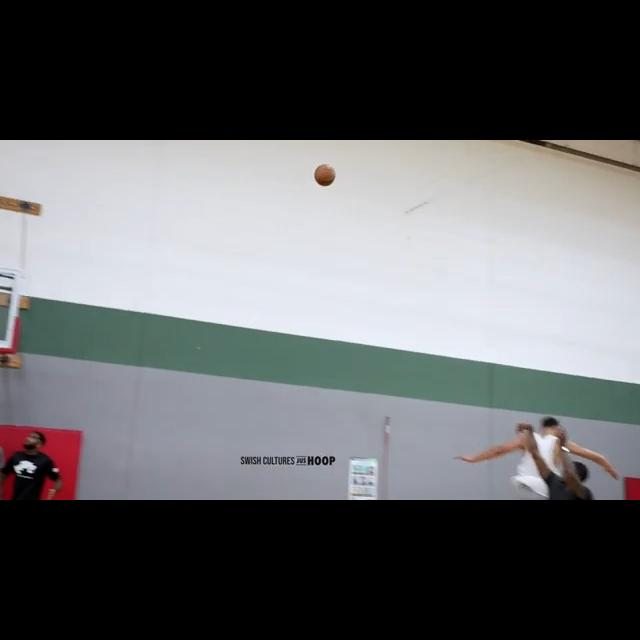basketball: (314, 163, 337, 188)
